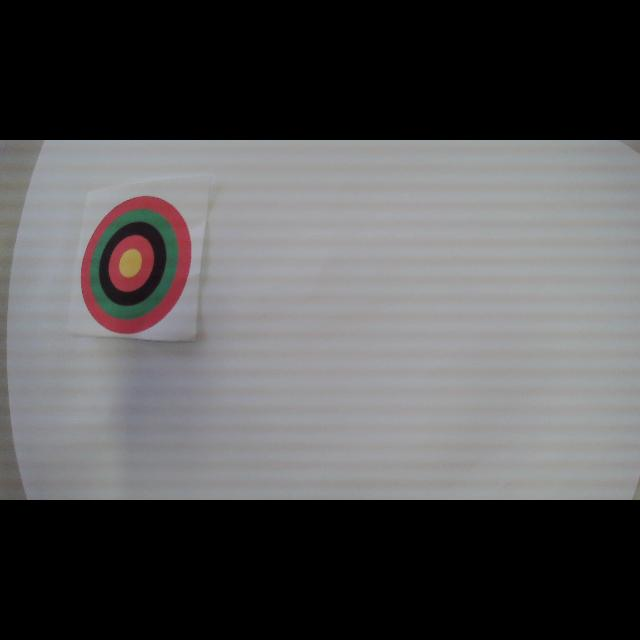COGNITIVE: (80, 194, 192, 334)
